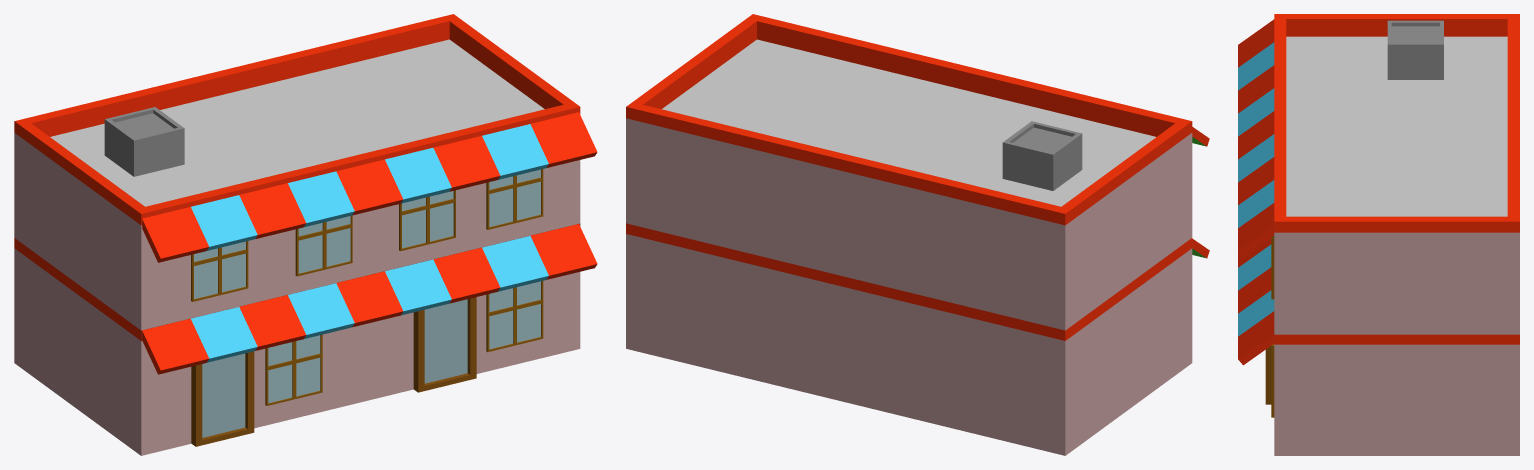
The model's file is Store_6.fbx.
The picture shows the model from 3 angles, left to right: view 1: azimuth 30°, elevation 25°; view 2: azimuth 150°, elevation 25°; view 3: azimuth 270°, elevation 25°; orthographic projection. The views are drawn at different scales.
Visible parts, largest first — view 1: Cube; view 2: Cube; view 3: Cube.
Part boxes in pixels (bbox=[...]): Cube: bbox=[14, 14, 597, 455]; Cube: bbox=[626, 14, 1209, 455]; Cube: bbox=[1238, 14, 1519, 455].
Size of the model in its own units: 16 by 9.05 by 9.17.
